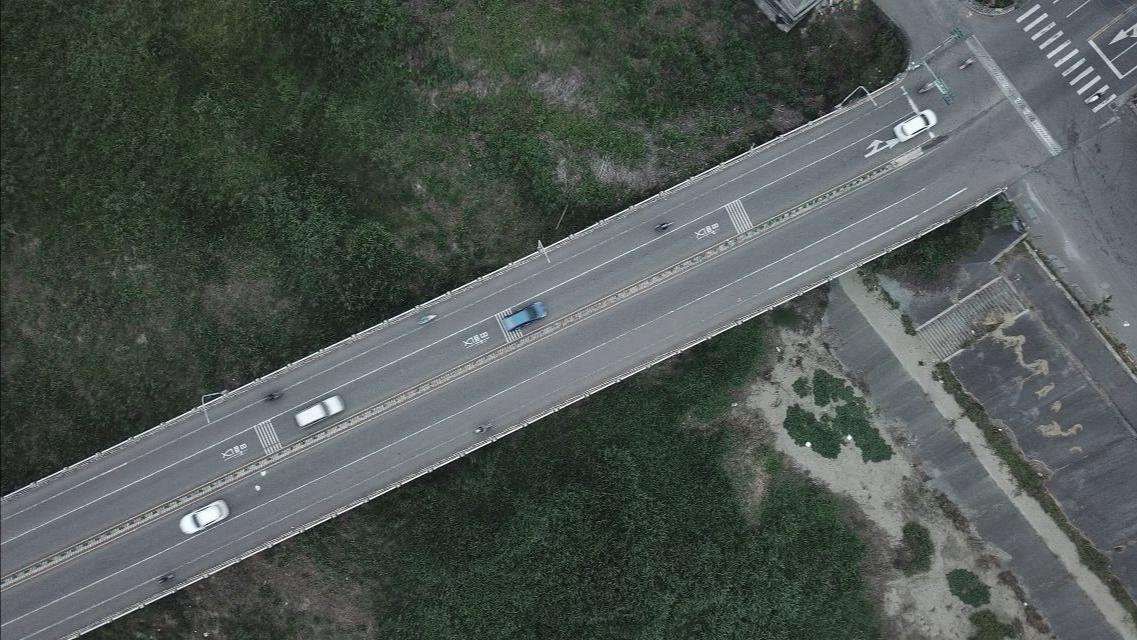vehicle: (178, 498, 229, 536), (295, 394, 346, 429), (894, 108, 938, 142), (503, 300, 548, 332)
